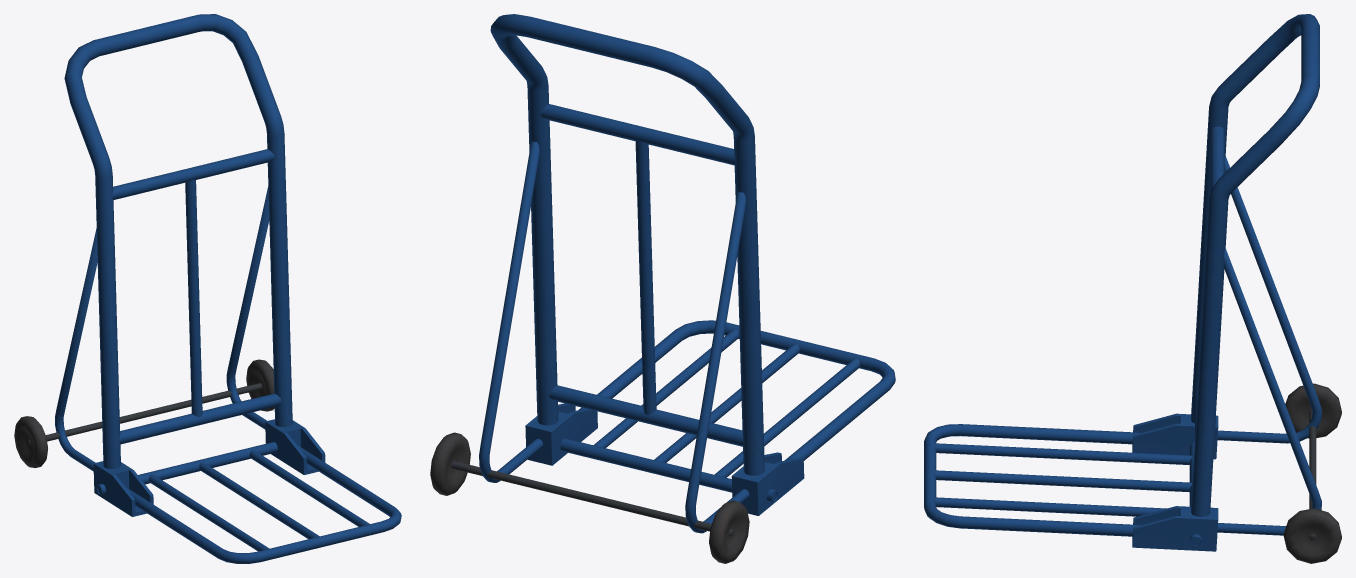
File: diable.glb
3 views of the same model, side by side, from view 1: azimuth 30°, elevation 25°; view 2: azimuth 150°, elevation 25°; view 3: azimuth 270°, elevation 25° (orthographic). The views are drawn at different scales.
Visible parts, largest first — view 1: Hand_Truck; view 2: Hand_Truck; view 3: Hand_Truck.
Part boxes in pixels (box(x1,y1,x2,y2)): Hand_Truck: box(14, 14, 401, 563); Hand_Truck: box(430, 14, 895, 563); Hand_Truck: box(924, 14, 1341, 563).
Bounding box in the file's own units: 1.05 × 1.7 × 1.42.
Materials: 2 (2 with a texture image).
